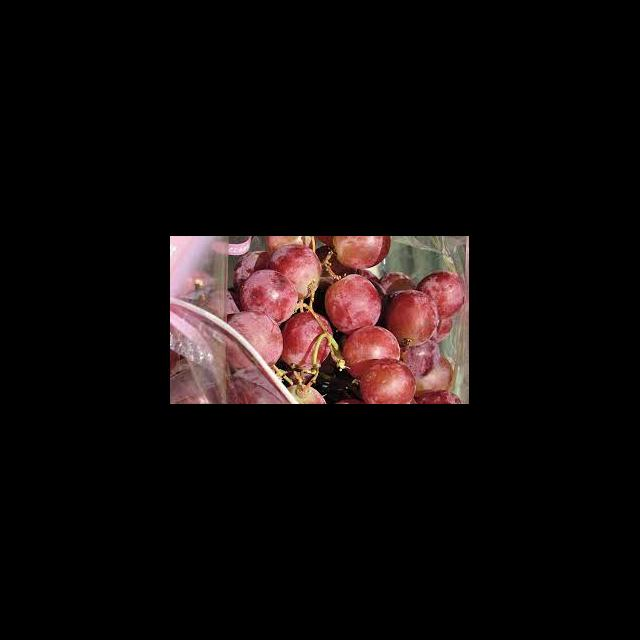grape: (226, 236, 464, 403)
